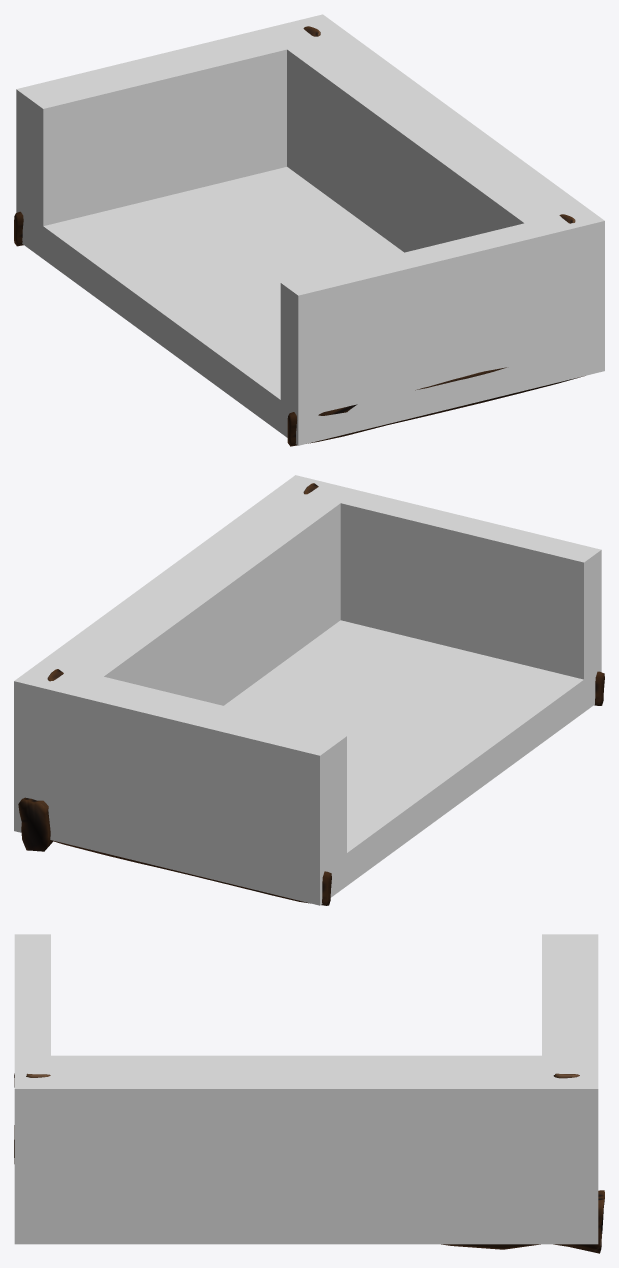
File: Makchara_V2.fbx
3 renders of one model, top to bottom at view 1: azimuth 30°, elevation 25°; view 2: azimuth 150°, elevation 25°; view 3: azimuth 270°, elevation 25°, orthographic. The views are drawn at different scales.
Visible parts, largest first — view 1: Cube.001, Balcon_V3; view 2: Cube.001, Balcon_V3; view 3: Cube.001, Balcon_V3.
Boxes of the visible parts, x1,y1,x2,y2 form: Cube.001: (16, 14, 604, 445); Balcon_V3: (14, 26, 584, 446); Cube.001: (14, 475, 601, 905); Balcon_V3: (18, 483, 604, 905); Cube.001: (14, 934, 598, 1244); Balcon_V3: (14, 1073, 604, 1253).
Bounding box in the file's own units: 323 × 168 × 513.
